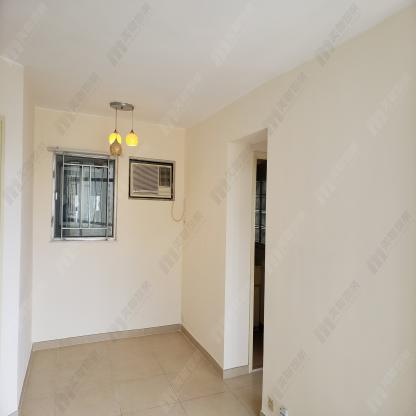AC: (130, 162, 172, 198)
